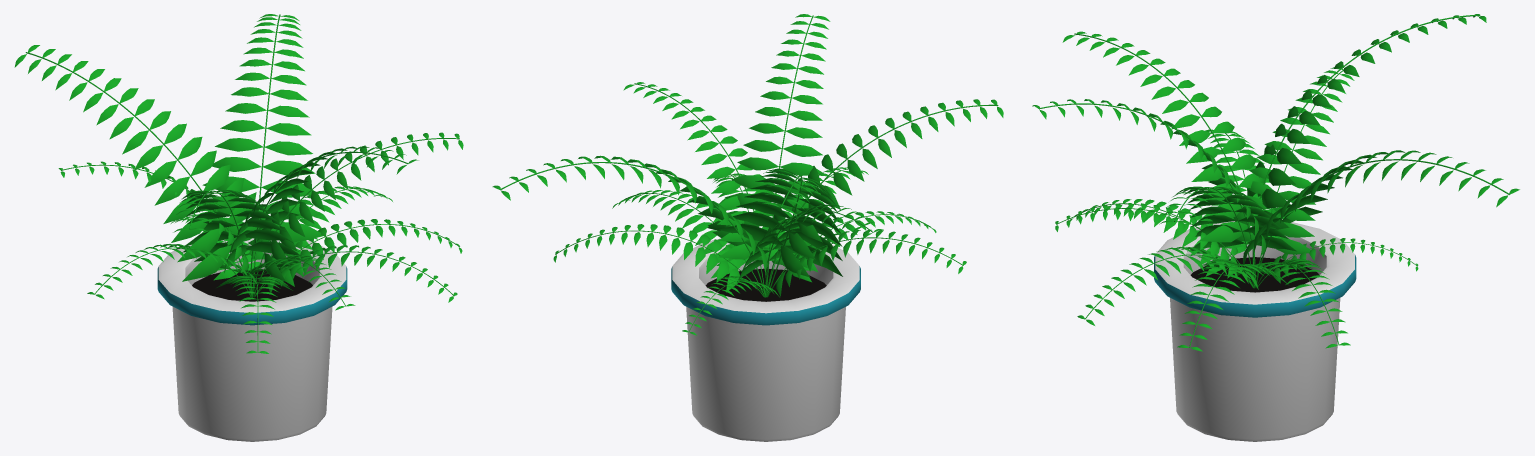
The model's file is Fern.fbx.
3 renders of one model, left to right at view 1: azimuth 30°, elevation 25°; view 2: azimuth 150°, elevation 25°; view 3: azimuth 270°, elevation 25°, orthographic. The views are drawn at different scales.
Visible parts, largest first — view 1: Fern_V1; view 2: Fern_V1; view 3: Fern_V1.
Boxes of the visible parts, x1=… form: Fern_V1: x1=14, y1=14, x2=463, y2=441; Fern_V1: x1=492, y1=14, x2=1003, y2=441; Fern_V1: x1=1032, y1=14, x2=1519, y2=441.
Bounding box in the file's own units: 173 × 145 × 191.
